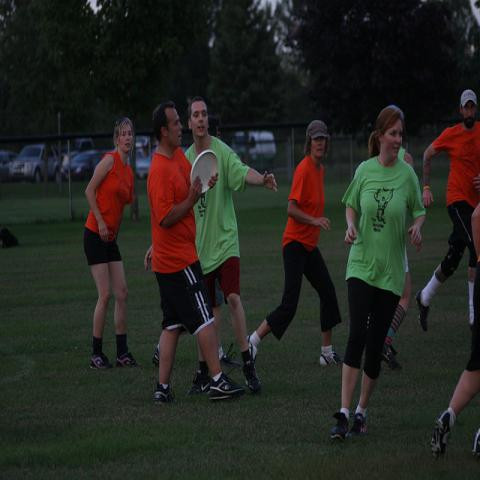car: (9, 144, 60, 183), (228, 130, 276, 164), (60, 149, 106, 181), (60, 148, 80, 177), (136, 148, 151, 178), (74, 138, 97, 151), (1, 152, 13, 173), (135, 134, 150, 149)
